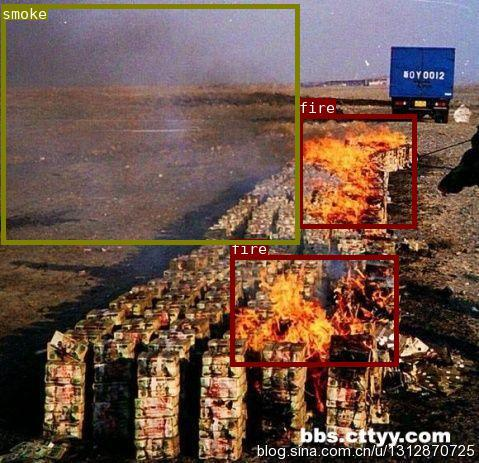fire: (229, 255, 397, 366), (297, 113, 415, 227)
smoke: (1, 3, 298, 243)
